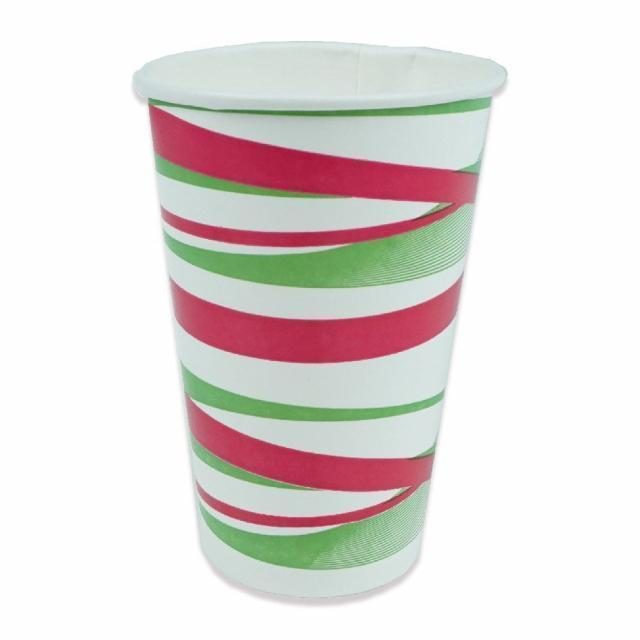trash: (113, 31, 507, 603)
